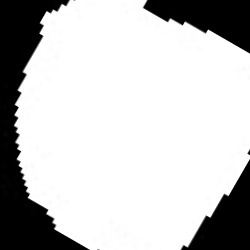spot: (15, 0, 246, 247)
